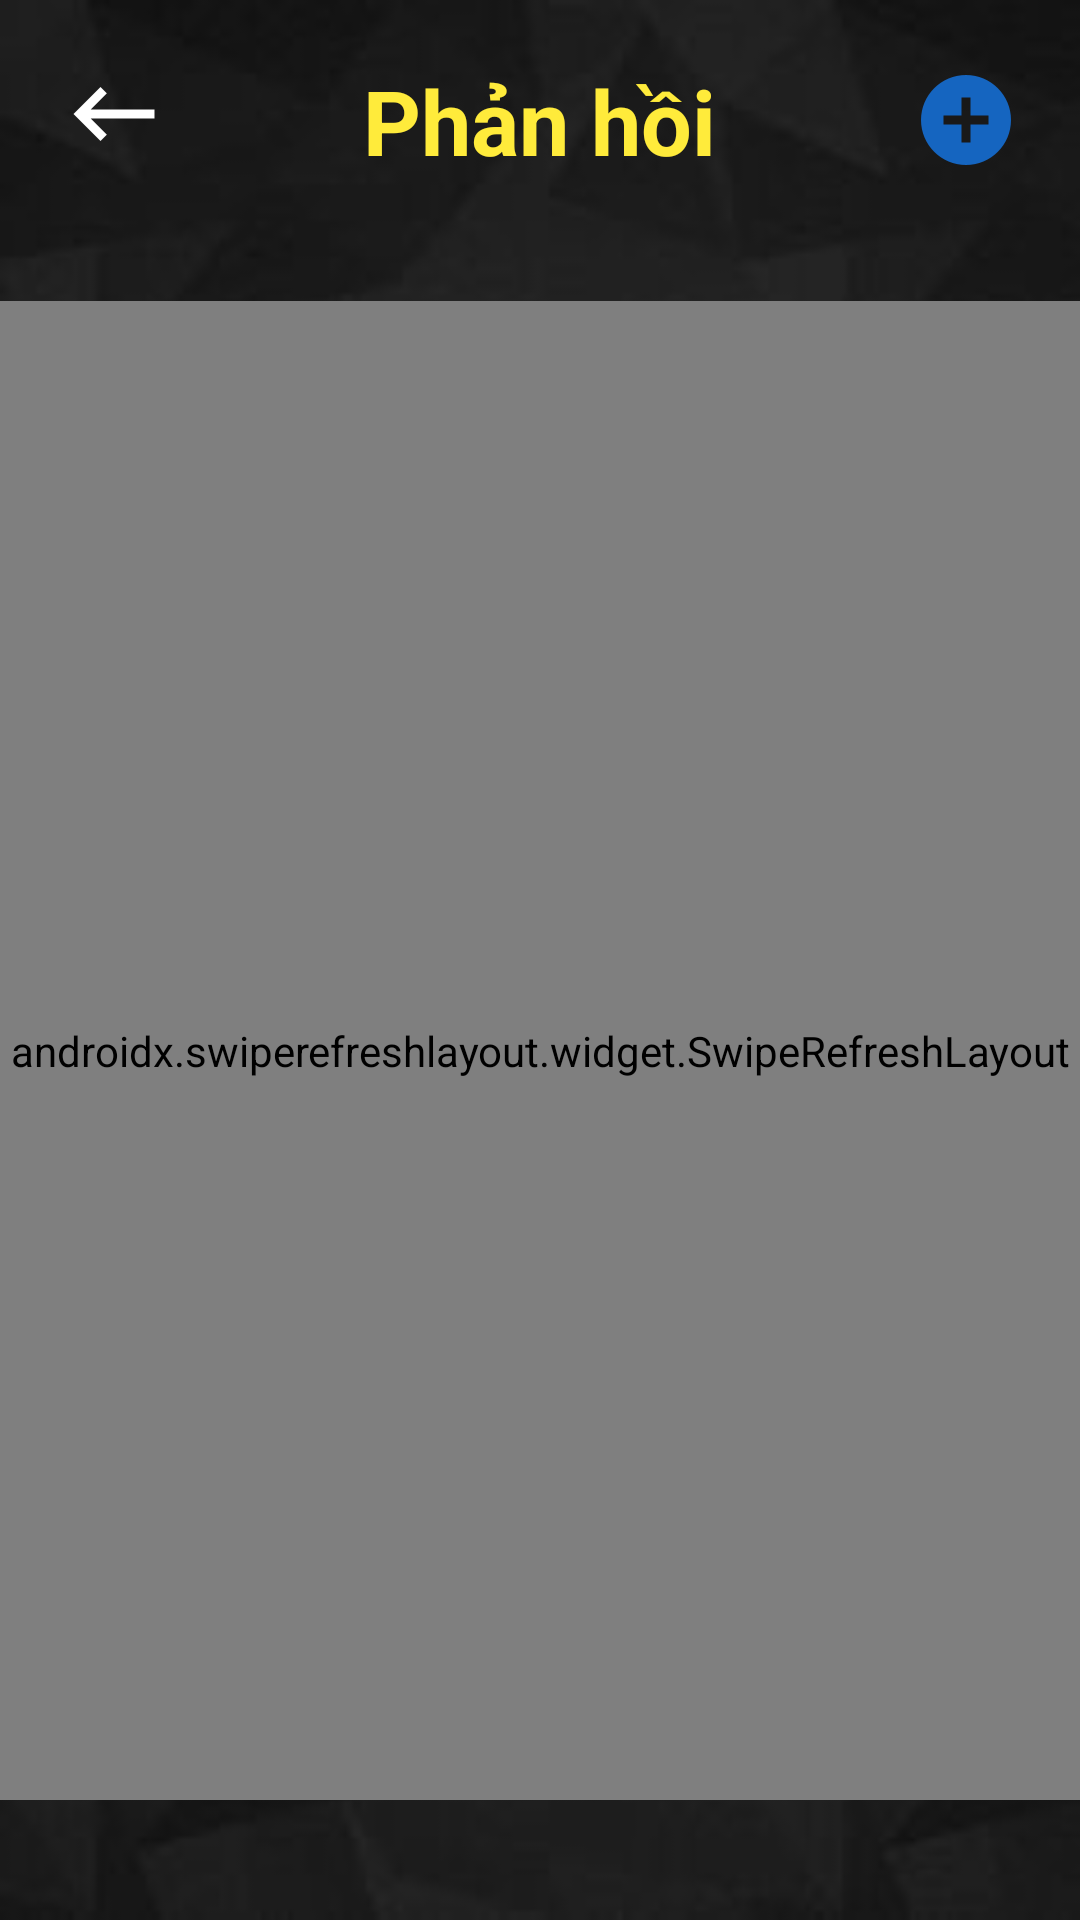

Named icons in this screenshot (1080px x 1920px) and their centers, (x,y):
add circle: (966,120)
keyboard backspace: (114,114)
